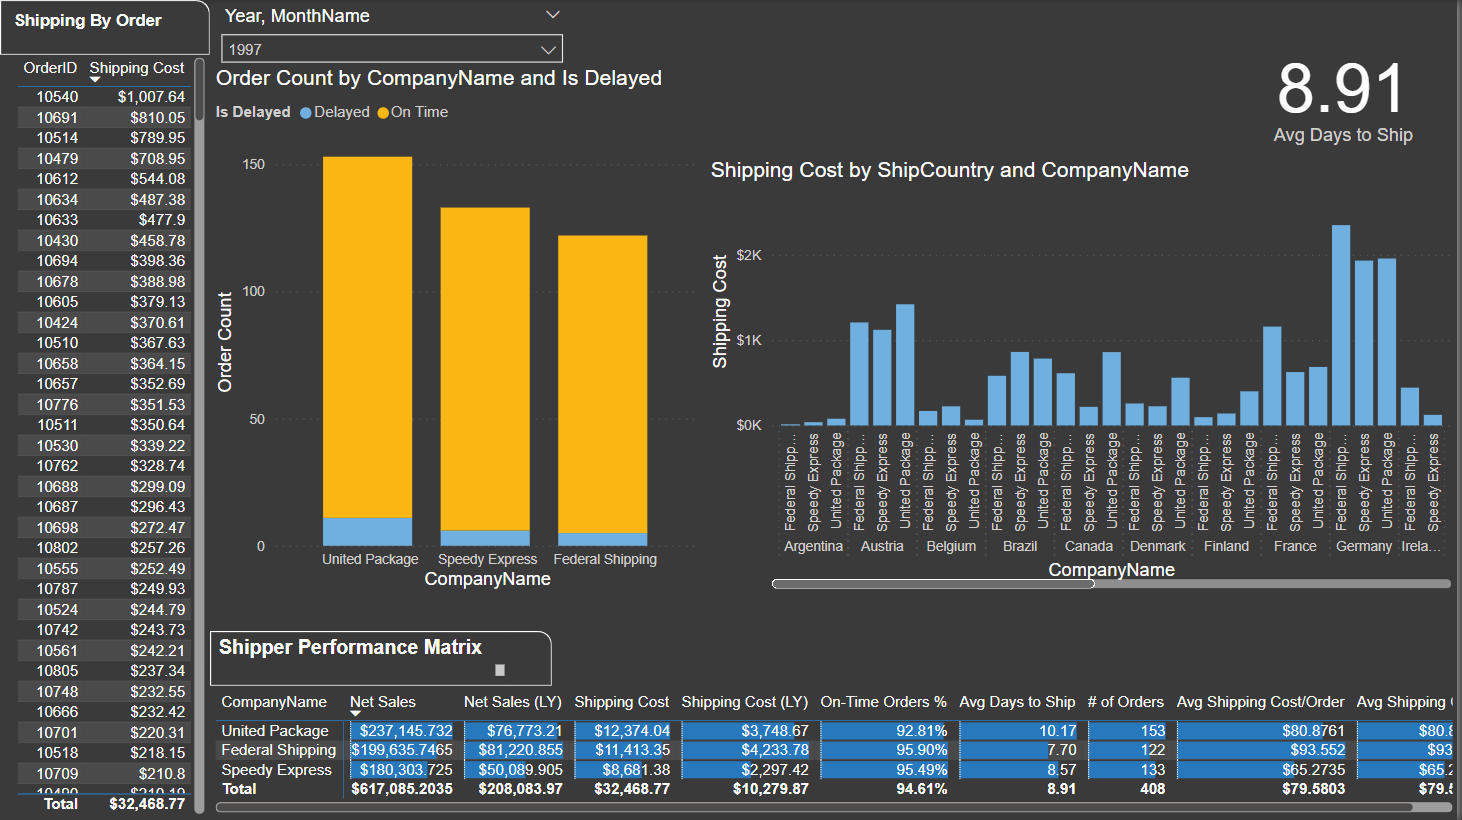

What the dashboard file says about the page in this screenshot:
{"tool":"powerbi","page":{"name":"Shippers Report :  ","canvas":[1280,720],"ordinal":6},"visuals":[{"type":"shape","box":[0,0,184.4,48.3],"z":0,"group":"g2"},{"type":"tableEx","fields":{"Values":["Orders.OrderID","Categories.Shipping Cost"]},"box":[9.7,45.7,174.7,674.3],"z":0},{"type":"shape","box":[184.4,554,300.3,48.3],"z":0,"group":"g1"},{"type":"slicer","fields":{"Values":["DateDimension_new.Year","DateDimension_new.MonthName"]},"box":[184.8,0,320,69.9],"z":1000},{"type":"textbox","box":[7.4,4.6,164.6,40.5],"z":1000,"group":"g2"},{"type":"textbox","title":"Shipper Performance Matrix","box":[186.8,558.6,261.1,39.5],"z":1000,"group":"g1"},{"type":"card","fields":{"Values":["Categories.Avg Days to Ship"]},"box":[1079.1,0,200.9,161.9],"z":2000},{"type":"columnChart","fields":{"Category":["Shippers.CompanyName"],"Y":["Categories.Order Count"],"Series":["Orders.Is Delayed"]},"box":[184.4,58,434.6,463.6],"z":3000},{"type":"clusteredColumnChart","fields":{"Category":["Orders.ShipCountry","Shippers.CompanyName"],"Y":["Categories.Shipping Cost"]},"box":[619,138.7,660.3,382.8],"z":4000},{"type":"pivotTable","fields":{"Rows":["Shippers.CompanyName"],"Values":["Categories.Net Sales","Categories.Net Sales (LY)","Categories.Shipping Cost","Categories.Shipping Cost (LY)","Categories.On-Time Orders %","Categories.Avg Days to Ship","Categories.# of Orders","Categories.Avg Shipping Cost/Order","Categories.Avg Shipping Cost"]},"box":[184.4,602.5,1095.6,116.4],"z":5000},{"type":"group","id":"g1","title":"Group 1","box":[184.4,554,300.3,48.3],"z":6000},{"type":"group","id":"g2","title":"Group 1","box":[0,0,184.8,48.7],"z":7000}]}

Visuals, with their boxes in screenshot pixels (x1, y1, x2, y2), scaled from the page's 1280x720 canvas onto the 1462x820 screenshot:
shape: BBox(0, 0, 211, 55)
tableEx - Orders.OrderID x Categories.Shipping Cost: BBox(11, 52, 211, 819)
shape: BBox(211, 631, 554, 686)
slicer - DateDimension_new.Year x DateDimension_new.MonthName: BBox(211, 0, 577, 80)
textbox: BBox(8, 5, 196, 51)
"Shipper Performance Matrix" textbox: BBox(213, 636, 512, 681)
card - Categories.Avg Days to Ship: BBox(1233, 0, 1461, 184)
columnChart - Shippers.CompanyName x Categories.Order Count: BBox(211, 66, 707, 594)
clusteredColumnChart - Orders.ShipCountry x Shippers.CompanyName: BBox(707, 158, 1461, 594)
pivotTable - Shippers.CompanyName x Categories.Net Sales: BBox(211, 686, 1461, 819)
"Group 1" group: BBox(211, 631, 554, 686)
"Group 1" group: BBox(0, 0, 211, 55)
